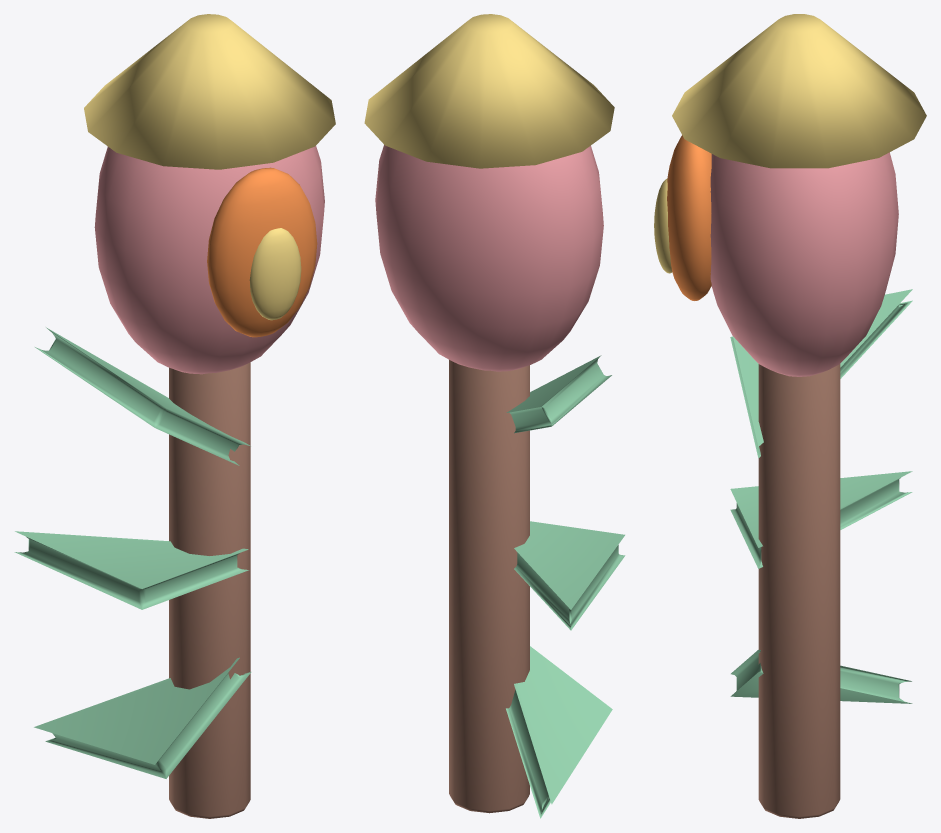
The model's file is pepper_lantern.glb.
3 views of the same model, side by side, from view 1: azimuth 30°, elevation 25°; view 2: azimuth 150°, elevation 25°; view 3: azimuth 270°, elevation 25° (orthographic).
Visible parts, largest first — view 1: Fixed_Detail.009, Fixed_Detail.008; view 2: Fixed_Detail.009; view 3: Fixed_Detail.009, Fixed_Detail.008.
Part boxes in pixels (x1=…): Fixed_Detail.009: x1=14, y1=14, x2=335, y2=818; Fixed_Detail.008: x1=207, y1=167, x2=317, y2=337; Fixed_Detail.009: x1=364, y1=14, x2=625, y2=818; Fixed_Detail.009: x1=672, y1=14, x2=926, y2=818; Fixed_Detail.008: x1=654, y1=135, x2=711, y2=300.
Size of the model in its own units: 2.23 by 6.75 by 2.14.
